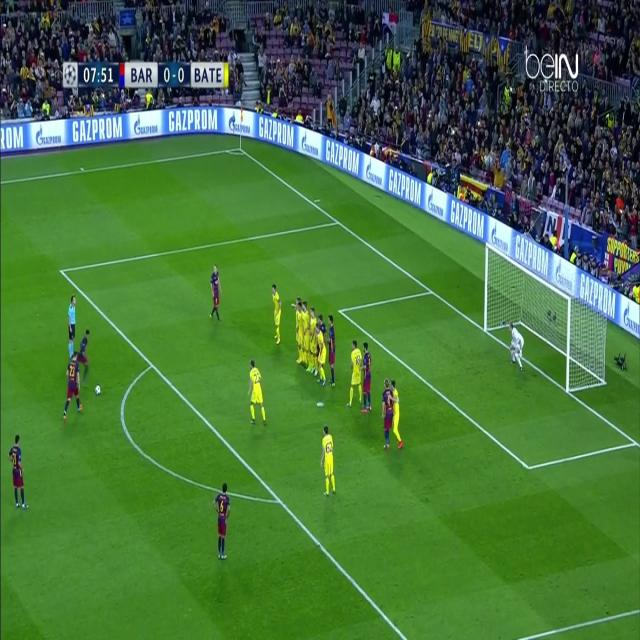Ball: (94, 382, 102, 399)
Goalkeeper: (506, 324, 528, 373)
Player: (7, 432, 29, 515), (210, 482, 232, 562), (61, 352, 83, 429), (246, 359, 269, 427), (343, 337, 363, 413), (319, 423, 337, 501), (359, 341, 374, 419), (379, 377, 394, 454), (326, 311, 340, 390), (313, 321, 329, 387), (392, 378, 405, 453), (269, 280, 283, 349), (207, 262, 222, 326), (74, 328, 92, 381), (310, 306, 318, 382), (302, 299, 310, 371), (296, 299, 304, 366)
Referee: (65, 293, 78, 363)
